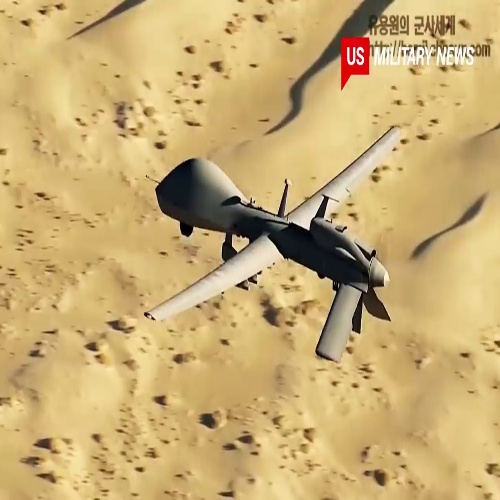uav62: (148, 126, 397, 358)
